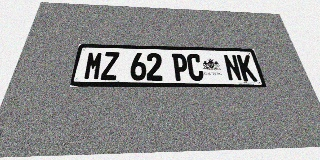2: (147, 53, 162, 81)
6: (130, 52, 146, 80)
C: (186, 54, 205, 81)
K: (236, 55, 258, 81)
M: (83, 51, 104, 80)
N: (223, 55, 243, 81)
P: (172, 53, 189, 81)
Z: (100, 52, 119, 80)
